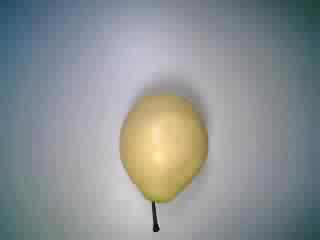pear: (101, 87, 223, 233)
